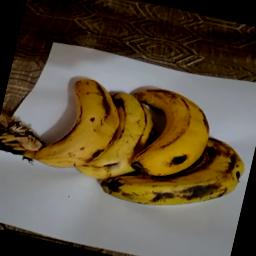Banana Unripe: (22, 65, 127, 182), (112, 75, 217, 185), (90, 82, 164, 190)
